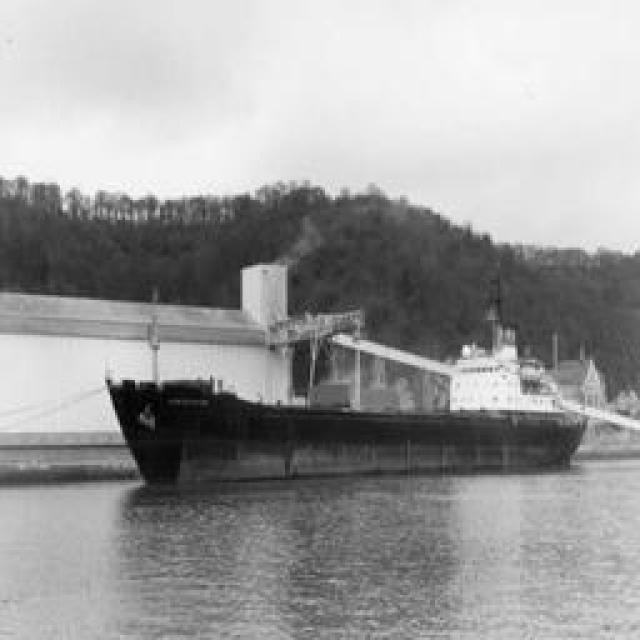Ship: (108, 345, 583, 473)
